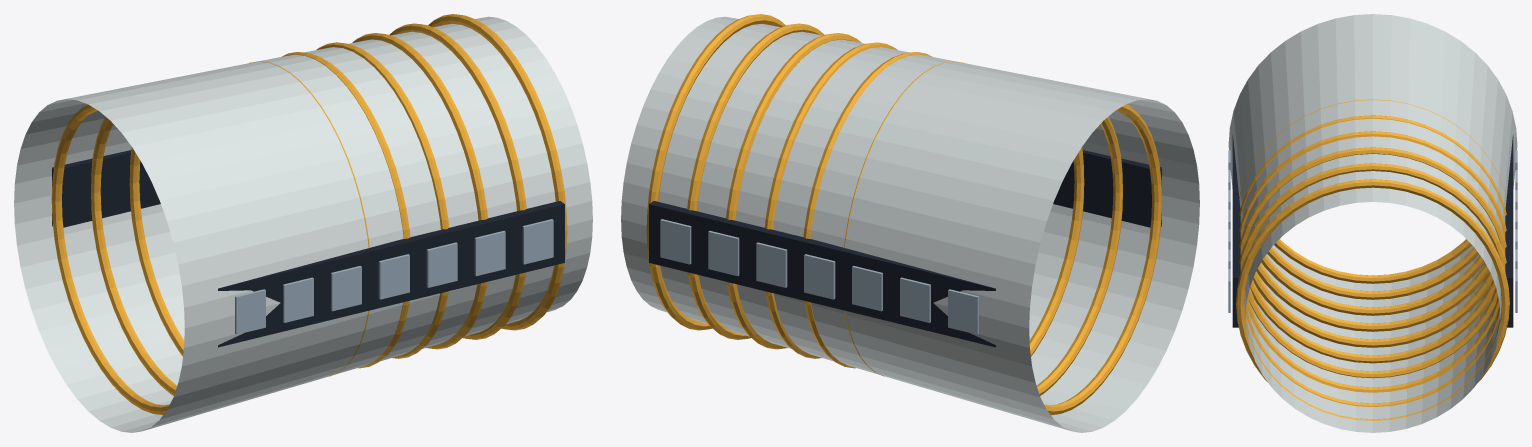
The model's file is 04_L86_DockedCargoSpacecraft.fbx.
3 views of the same model, side by side, from view 1: azimuth 30°, elevation 25°; view 2: azimuth 150°, elevation 25°; view 3: azimuth 270°, elevation 25° (orthographic). The views are drawn at different scales.
Parts seen in each view (by area): view 1: L86_DockedCargoSpacecraft; view 2: L86_DockedCargoSpacecraft; view 3: L86_DockedCargoSpacecraft.
Boxes of the visible parts, <box> form: L86_DockedCargoSpacecraft: <box>14,14,592,432</box>; L86_DockedCargoSpacecraft: <box>621,14,1199,432</box>; L86_DockedCargoSpacecraft: <box>1228,14,1517,432</box>.
Bounding box in the file's own units: 410 × 290 × 290.
